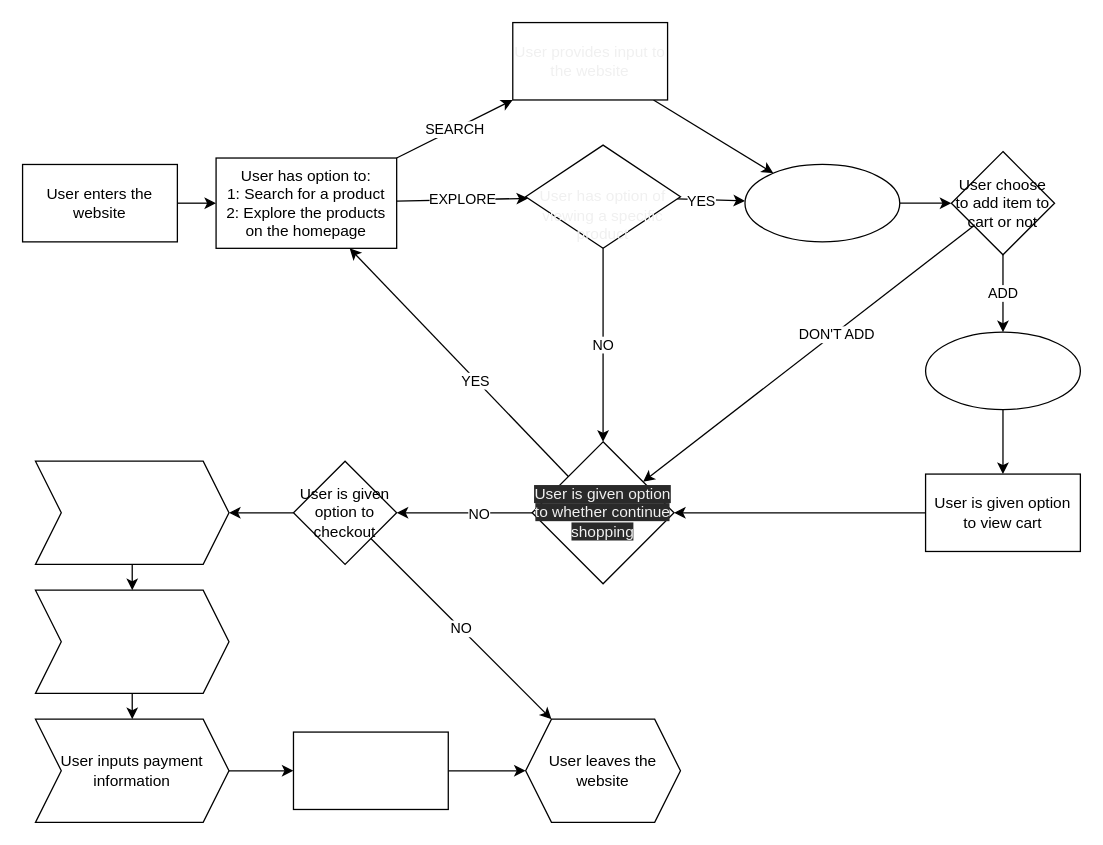
This 1103x845 diagram has some shape labels left out. The shapes that lost their labels are listed below. From the top down, each one's centre as x and y in pixels, then its label:
At point (822, 202): "Product's webpage will open".
At point (1002, 370): "If item is added to cart, user receives cart confirmation first".
At point (131, 512): "View Cart Screen".
At point (131, 641): "View Payment Screen".
At point (370, 770): "Order confirmation screen shows and email is sent".
